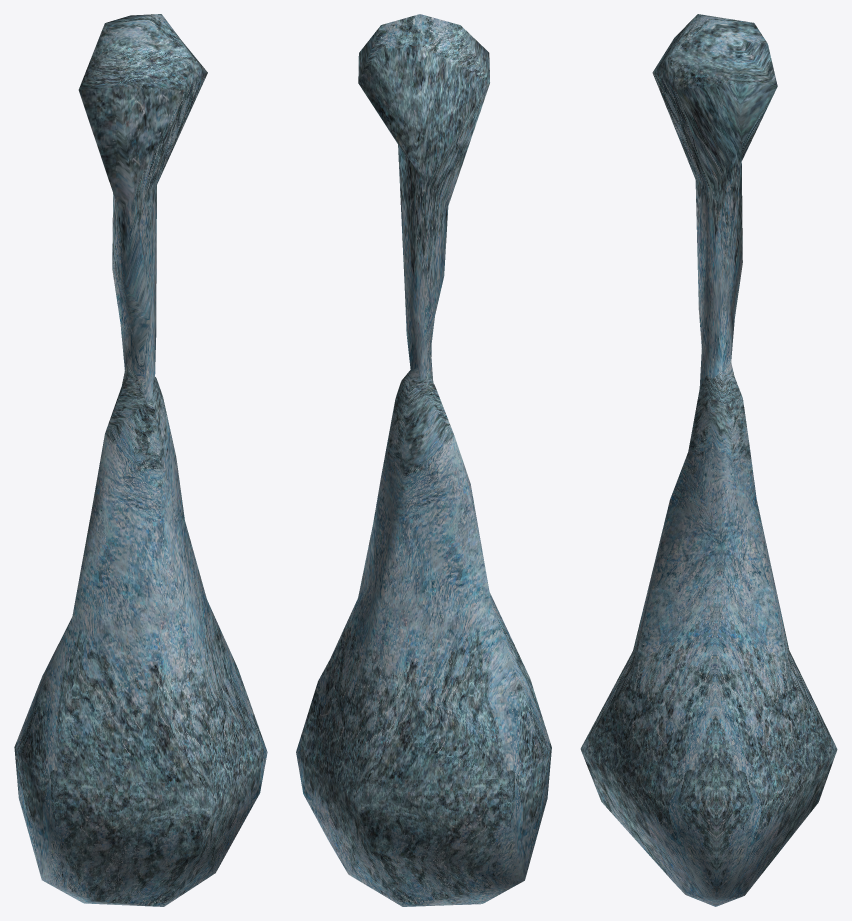
The model's file is thm_all_cave_column_ice_a1_l1.fbx.
3 views of the same model, side by side, from view 1: azimuth 30°, elevation 25°; view 2: azimuth 150°, elevation 25°; view 3: azimuth 270°, elevation 25° (orthographic).
Parts seen in each view (by area): view 1: mesh_node; view 2: mesh_node; view 3: mesh_node.
Part boxes in pixels (<box>): mesh_node: <box>14,14,267,906</box>; mesh_node: <box>296,14,551,906</box>; mesh_node: <box>580,14,837,906</box>.
Size of the model in its own units: 1.23 by 4.39 by 1.18.
